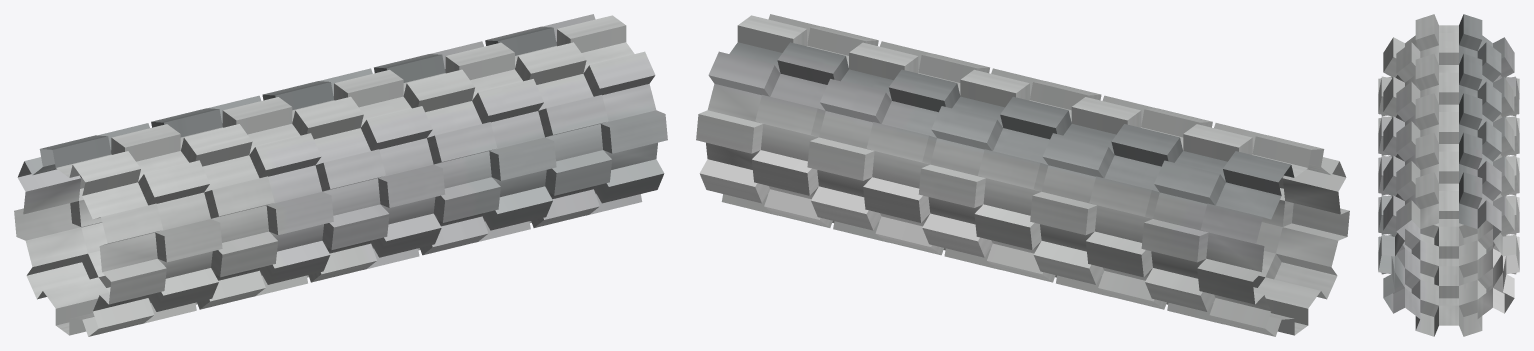
The model's file is CrusherBlade03.fbx.
3 renders of one model, left to right at view 1: azimuth 30°, elevation 25°; view 2: azimuth 150°, elevation 25°; view 3: azimuth 270°, elevation 25°, orthographic. The views are drawn at different scales.
Visible parts, largest first — view 1: Object003; view 2: Object003; view 3: Object003.
Boxes of the visible parts, bbox=[...] form: Object003: bbox=[14, 14, 667, 336]; Object003: bbox=[696, 14, 1349, 336]; Object003: bbox=[1378, 14, 1519, 336].
Bounding box in the file's own units: 52.8 × 15.8 × 15.95.
Materials: 1 (1 with a texture image).
